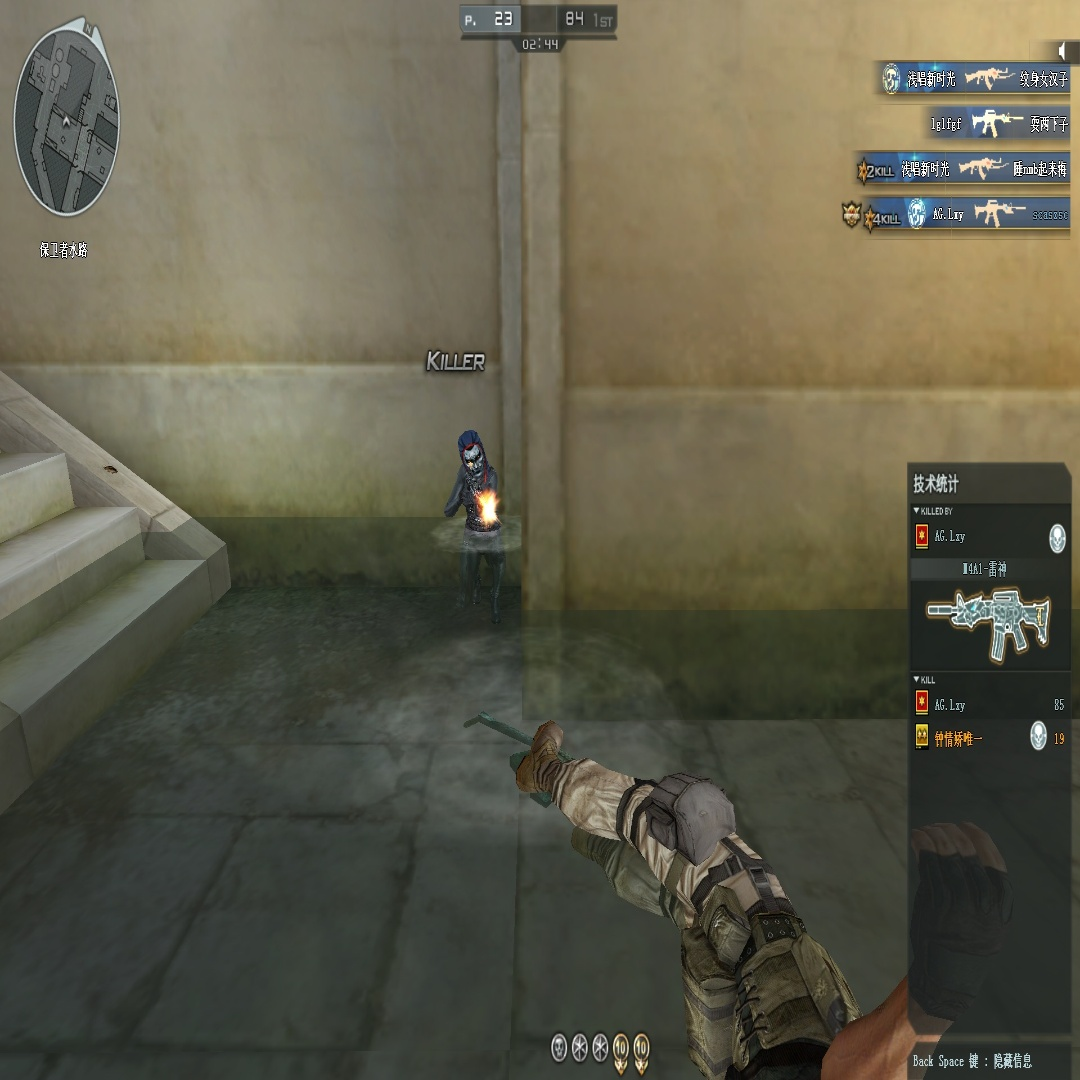p: (443, 425, 505, 625)
